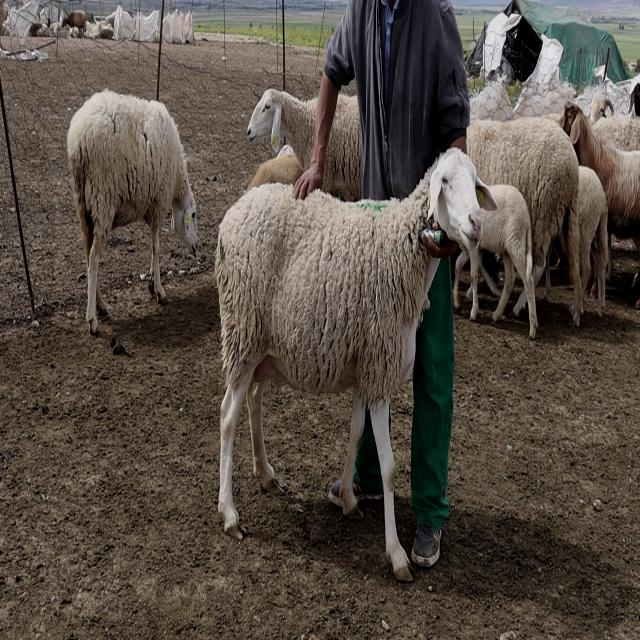Score_3: (215, 148, 497, 581)
